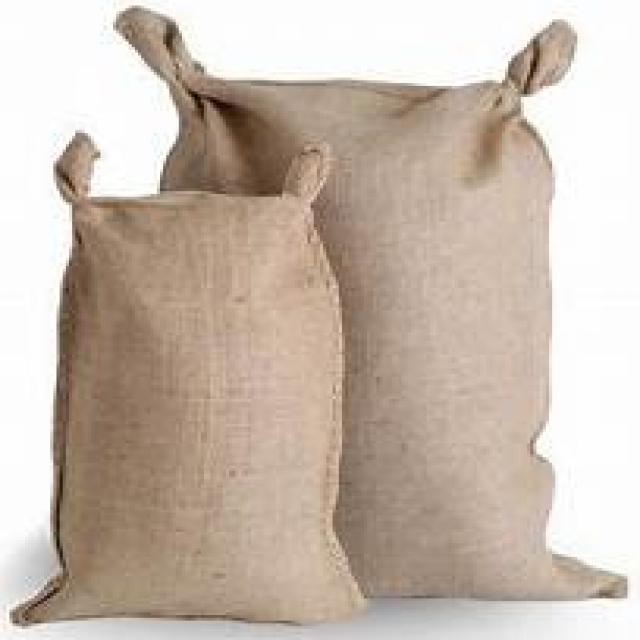gunny_bag: (109, 0, 635, 605), (6, 134, 375, 631)
